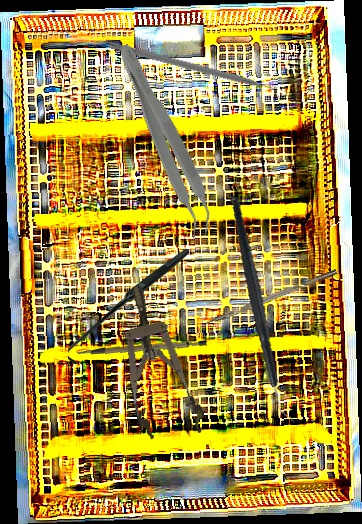Chopper: (198, 195, 328, 424), (104, 40, 286, 105), (192, 269, 341, 336)
Hook Surgical: (68, 249, 189, 364)
Scalpel Handle: (75, 329, 208, 364)
Speculum: (105, 277, 209, 447)
Tissue Forceps: (104, 39, 224, 242)
